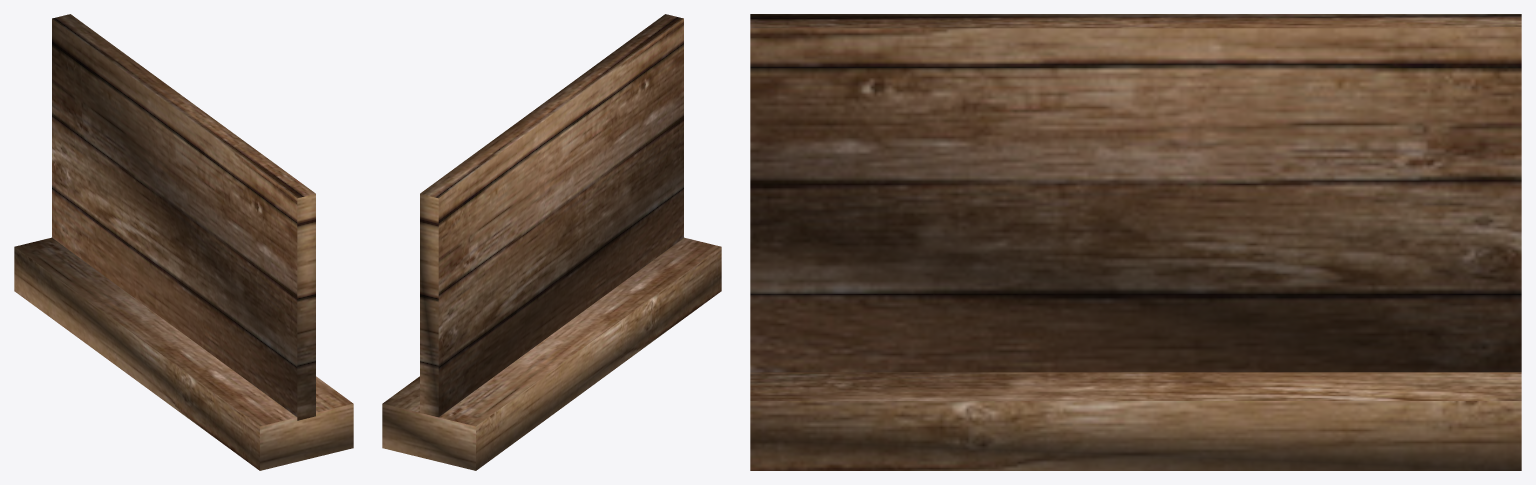
The model's file is table_part1.glb.
3 renders of one model, left to right at view 1: azimuth 30°, elevation 25°; view 2: azimuth 150°, elevation 25°; view 3: azimuth 270°, elevation 25°, orthographic. The views are drawn at different scales.
Visible parts, largest first — view 1: wood.jpg__; view 2: wood.jpg__; view 3: wood.jpg__.
Part boxes in pixels (<box>): wood.jpg__: <box>14,14,353,470</box>; wood.jpg__: <box>382,14,721,470</box>; wood.jpg__: <box>750,14,1521,470</box>.
Size of the model in its own units: 0.231 by 0.6217 by 1.05.
1 material, 1 textured.
